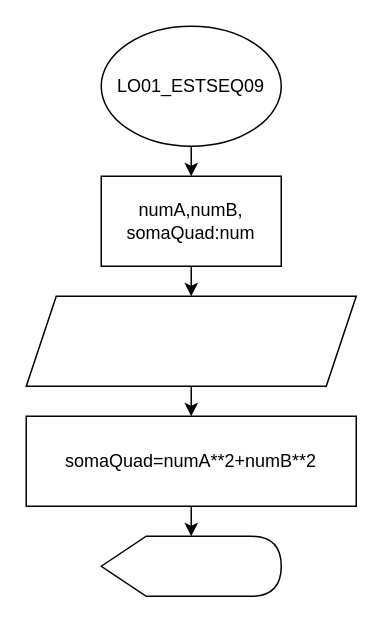
Some shapes in this 383 by 623 pixel diagram are drawn without their labels. The shapes that lost their labels are listed below. From the top down, each one's centre as x and y in pixels, then its label:
At [190,340]: "numA,numB".
At [190,565]: "somaQuad".
